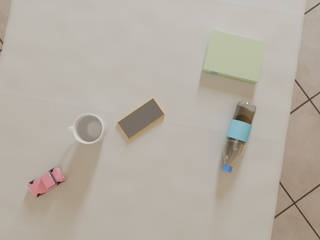book: (202, 30, 266, 83)
bottle: (222, 102, 257, 172)
cup: (67, 114, 107, 144)
phone: (117, 98, 165, 140)
toy_car: (28, 167, 65, 197)
